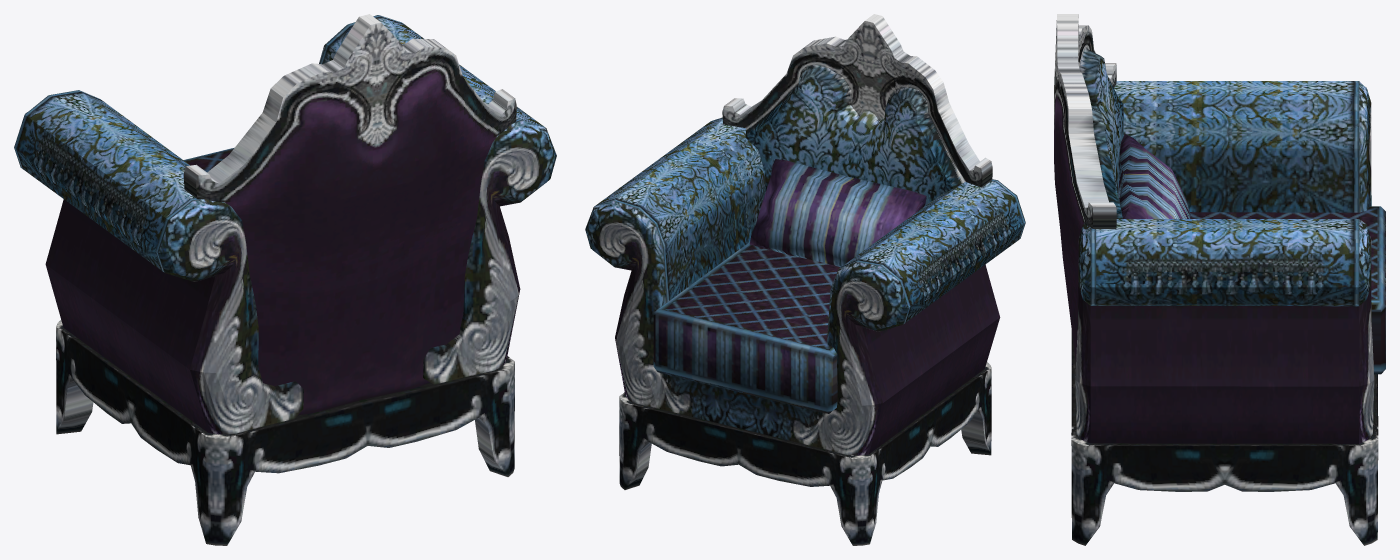
The model's file is furni_0201208_01.FBX.
The picture shows the model from 3 angles, left to right: view 1: azimuth 30°, elevation 25°; view 2: azimuth 150°, elevation 25°; view 3: azimuth 270°, elevation 25°; orthographic projection. The views are drawn at different scales.
Visible parts, largest first — view 1: furni_0201208_01; view 2: furni_0201208_01; view 3: furni_0201208_01.
Part boxes in pixels (left/top/right/bottom): furni_0201208_01: left=14, top=14, right=556, bottom=545; furni_0201208_01: left=585, top=14, right=1025, bottom=545; furni_0201208_01: left=1054, top=14, right=1385, bottom=545.
Size of the model in its own units: 79.29 by 93.85 by 61.43.
